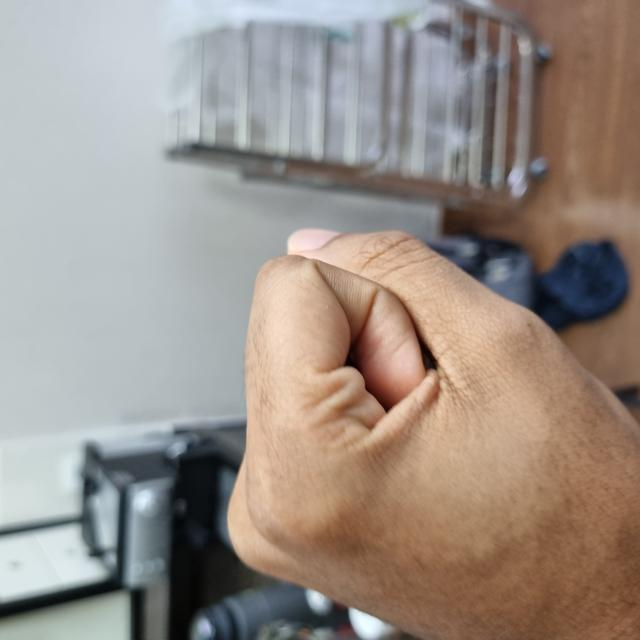Rock: (0, 239, 399, 639)
